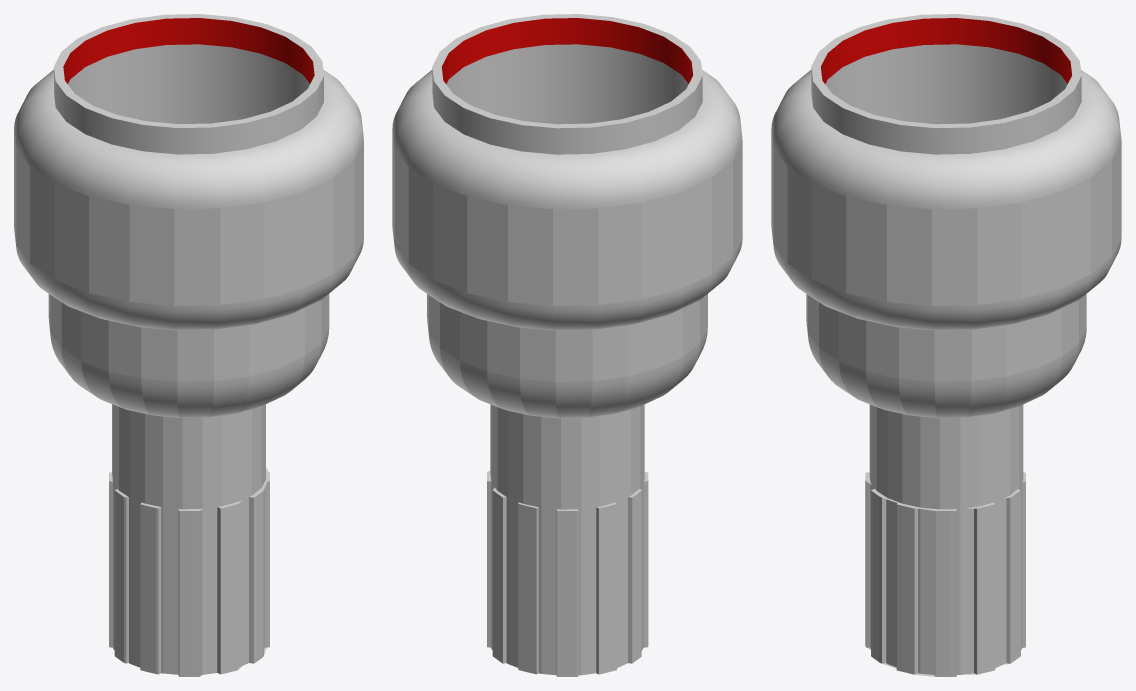
The model's file is fix_scene 4p.fbx.
3 views of the same model, side by side, from view 1: azimuth 30°, elevation 25°; view 2: azimuth 150°, elevation 25°; view 3: azimuth 270°, elevation 25° (orthographic).
Parts seen in each view (by area): view 1: 1.006, 1.005; view 2: 1.006, 1.005; view 3: 1.006, 1.005.
Part boxes in pixels (bbox=[...]): 1.006: bbox=[14, 14, 363, 676]; 1.005: bbox=[63, 18, 314, 83]; 1.006: bbox=[392, 14, 742, 676]; 1.005: bbox=[442, 18, 693, 83]; 1.006: bbox=[771, 14, 1121, 676]; 1.005: bbox=[821, 18, 1071, 83].
Bounding box in the file's own units: 153 × 276 × 153.
